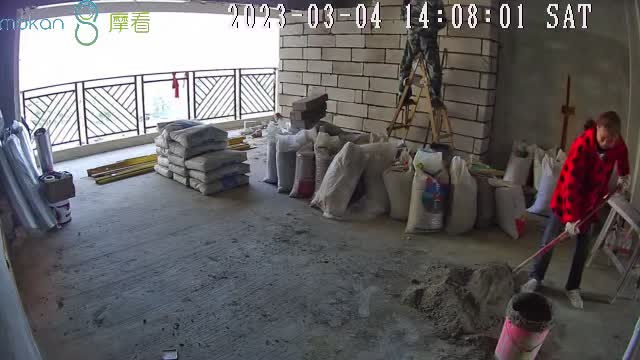people: (524, 110, 630, 311), (397, 1, 444, 110)
window: (14, 67, 284, 151)
